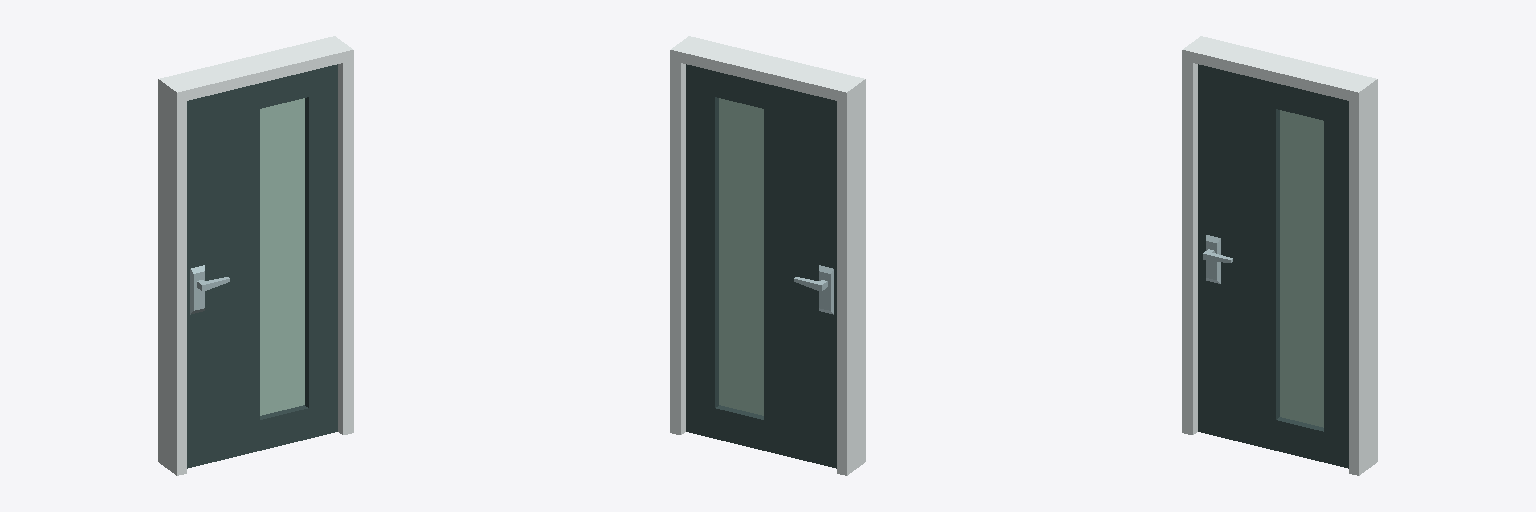
The model's file is doorwayFront.obj.
The picture shows the model from 3 angles: view 1: azimuth 30°, elevation 25°; view 2: azimuth 150°, elevation 25°; view 3: azimuth 330°, elevation 25°; orthographic projection.
Visible parts, largest first — view 1: door, doorwayFront; view 2: door, doorwayFront; view 3: door, doorwayFront.
Part boxes in pixels (x1,y1,x2,y2): door: (187,64,337,468); doorwayFront: (158,36,353,475); door: (686,64,836,468); doorwayFront: (670,36,865,475); door: (1198,64,1348,468); doorwayFront: (1182,36,1377,475).
Bounding box in the file's own units: 0.486 × 1.01 × 0.1134.